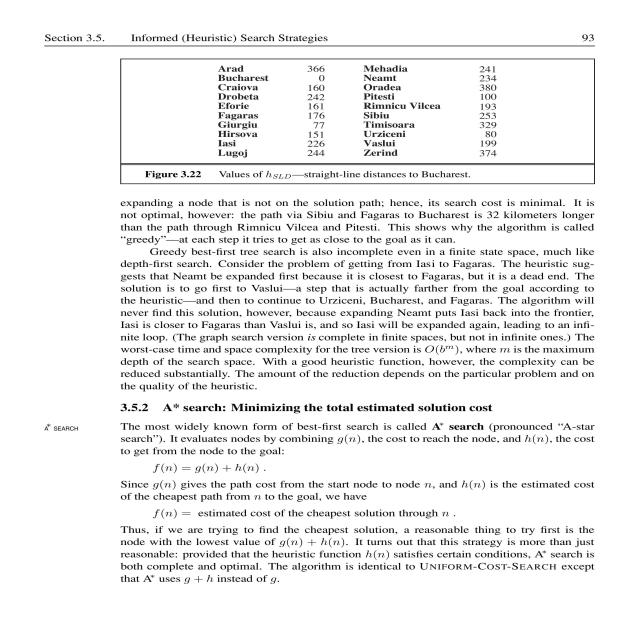diagram: (104, 54, 640, 195)
